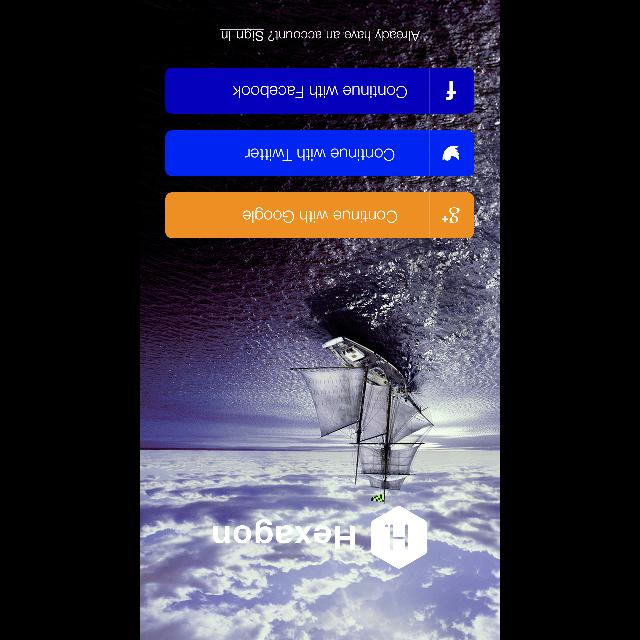backgroundimage: (140, 1, 500, 640)
image: (371, 506, 427, 568)
text: (213, 518, 355, 550), (220, 28, 420, 42)
textbutton: (165, 192, 473, 238), (165, 130, 473, 176), (166, 67, 474, 113)
